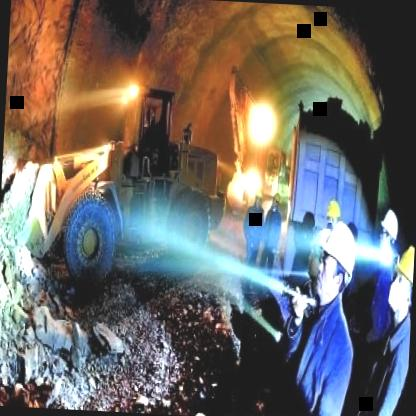helmet: (315, 224, 357, 304), (388, 238, 414, 317), (306, 228, 336, 281), (376, 204, 402, 260), (323, 196, 343, 230), (251, 185, 264, 208), (270, 189, 282, 209)
